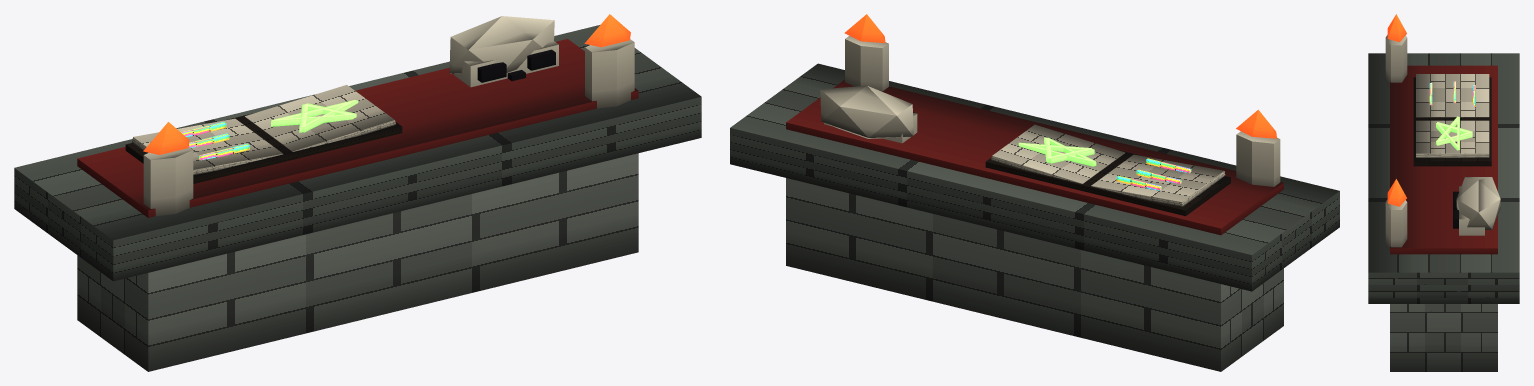
Rendered from ritual_altar.gltf.
The picture shows the model from 3 angles, left to right: view 1: azimuth 30°, elevation 25°; view 2: azimuth 150°, elevation 25°; view 3: azimuth 270°, elevation 25°; orthographic projection. The views are drawn at different scales.
Visible parts, largest first — view 1: ritual_altar; view 2: ritual_altar; view 3: ritual_altar.
Part boxes in pixels (left/top/right/bottom): ritual_altar: left=14, top=14, right=701, bottom=371; ritual_altar: left=730, top=14, right=1339, bottom=371; ritual_altar: left=1368, top=14, right=1519, bottom=371.
Bounding box in the file's own units: 1.2 × 0.47 × 0.35.
1 material, 1 textured.
